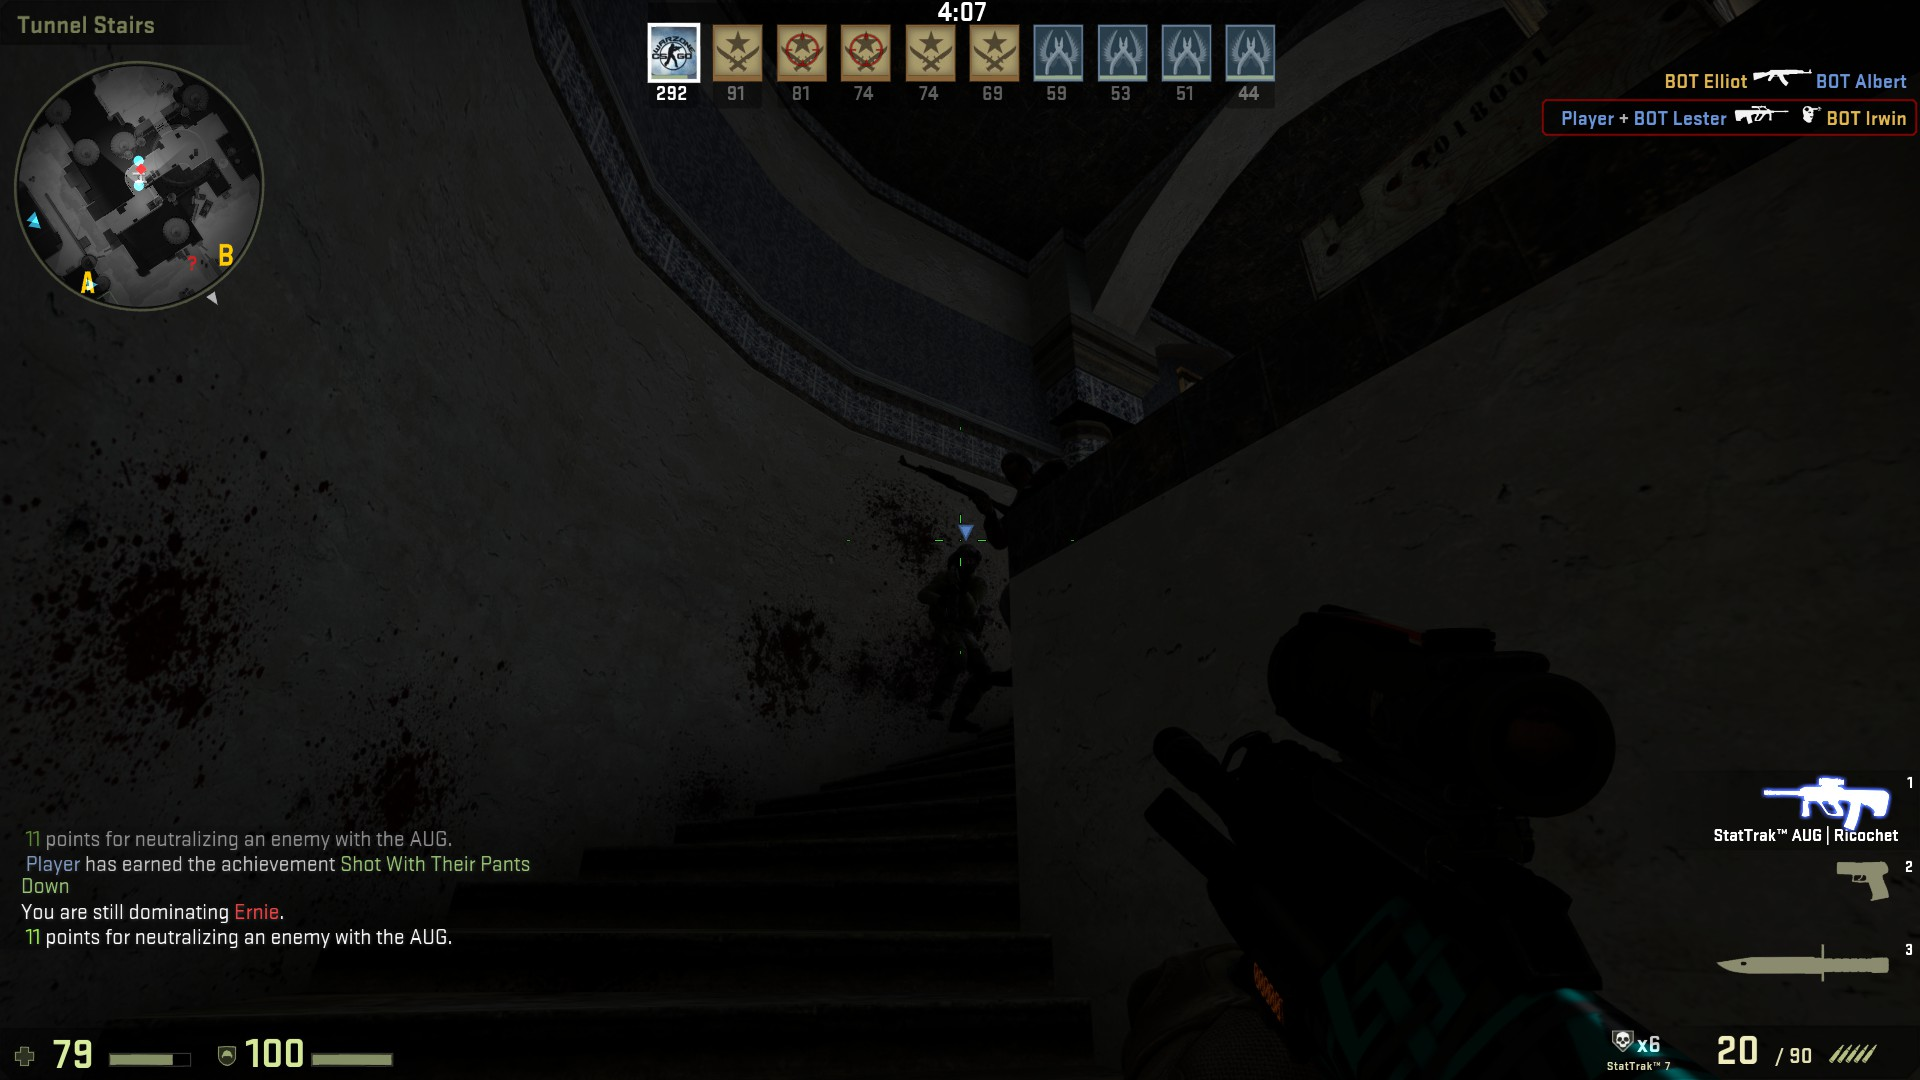c: (910, 539, 989, 725)
ch: (947, 545, 984, 582)
th: (992, 447, 1048, 493)
